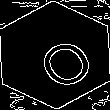O_NW: (19, 22, 91, 88)
